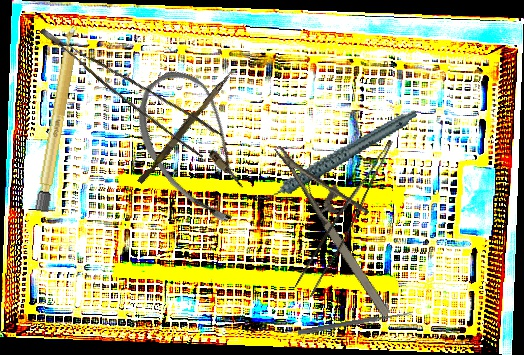Cannula: (116, 58, 277, 236)
Handpiece: (243, 109, 429, 204)
Needle Holder: (273, 123, 420, 321)
Pusher: (137, 65, 235, 187)
Scalpel Handle: (34, 23, 82, 213)
Surgical Spoon: (297, 309, 413, 337)
Tissue Forceps: (39, 0, 223, 167), (293, 130, 394, 300)
